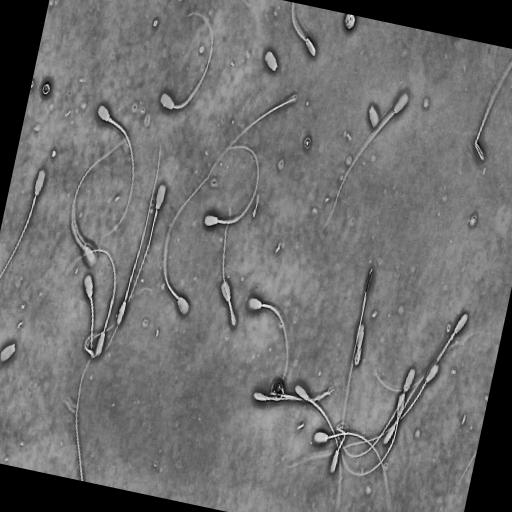coiled-tail: (354, 347, 361, 366)
dirt-particles: (269, 377, 285, 404), (343, 14, 356, 32), (40, 80, 52, 96), (302, 134, 313, 151)
distal-droplet: (110, 299, 113, 307)
folded-tail: (474, 62, 512, 146), (222, 208, 235, 325), (90, 296, 102, 358), (337, 427, 345, 451)
loose-head: (260, 44, 281, 77), (364, 99, 381, 134), (0, 337, 18, 368)
loose-tail: (205, 89, 298, 181), (73, 352, 94, 481)
normal: (323, 86, 411, 231), (102, 180, 168, 361), (326, 361, 441, 459), (114, 132, 164, 330), (68, 131, 135, 269), (370, 309, 469, 395), (159, 174, 216, 320), (335, 367, 416, 459), (339, 264, 374, 447), (157, 7, 215, 115), (310, 429, 391, 505), (292, 382, 342, 502), (0, 163, 48, 286), (94, 100, 135, 243), (339, 391, 406, 478), (69, 246, 118, 362), (200, 143, 262, 232), (472, 60, 512, 167), (243, 294, 289, 384), (217, 201, 239, 334), (80, 271, 103, 363), (289, 2, 317, 60), (327, 420, 350, 476), (351, 316, 367, 371)
proximal-droplet: (108, 117, 111, 122)
